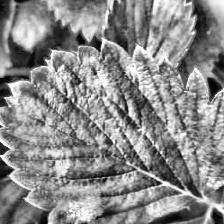Powdery Mildew Leaf: (0, 38, 224, 224)
